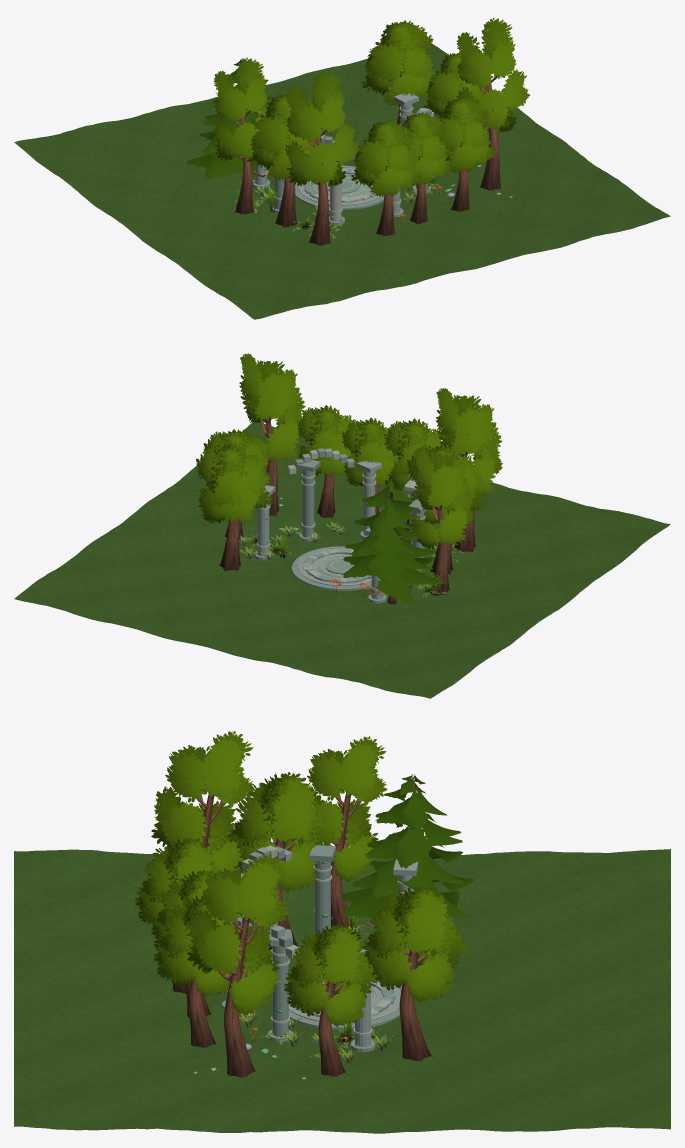
The model's file is dendro-forest-environment.glb.
3 views of the same model, one above another, from view 1: azimuth 30°, elevation 25°; view 2: azimuth 150°, elevation 25°; view 3: azimuth 270°, elevation 25° (orthographic). The views are drawn at different scales.
Visible parts, largest first — view 1: DendroForestStage; view 2: DendroForestStage; view 3: DendroForestStage.
Boxes of the visible parts, bbox=[...] form: DendroForestStage: bbox=[14, 17, 670, 319]; DendroForestStage: bbox=[14, 353, 670, 698]; DendroForestStage: bbox=[14, 731, 670, 1133].
Size of the model in its own units: 50 by 19.6 by 50.
Materials: 18 (11 with a texture image).
